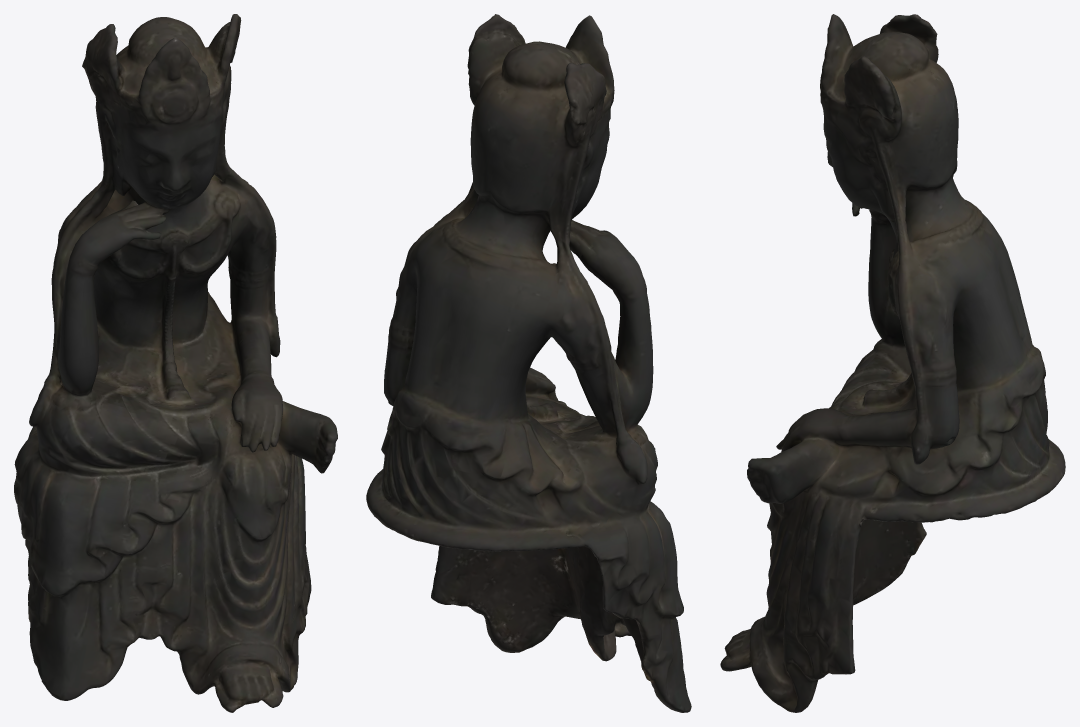
File: miroku.glb
3 renders of one model, left to right at view 1: azimuth 30°, elevation 25°; view 2: azimuth 150°, elevation 25°; view 3: azimuth 270°, elevation 25°, orthographic. The views are drawn at different scales.
Parts seen in each view (by area): view 1: Object_2; view 2: Object_2; view 3: Object_2.
Part boxes in pixels (box(x1,y1,x2,y2)): Object_2: box(14, 14, 337, 712); Object_2: box(366, 14, 691, 712); Object_2: box(720, 14, 1065, 712).
Bounding box in the file's own units: 0.4142 × 1 × 0.4799.
1 material, 1 textured.
